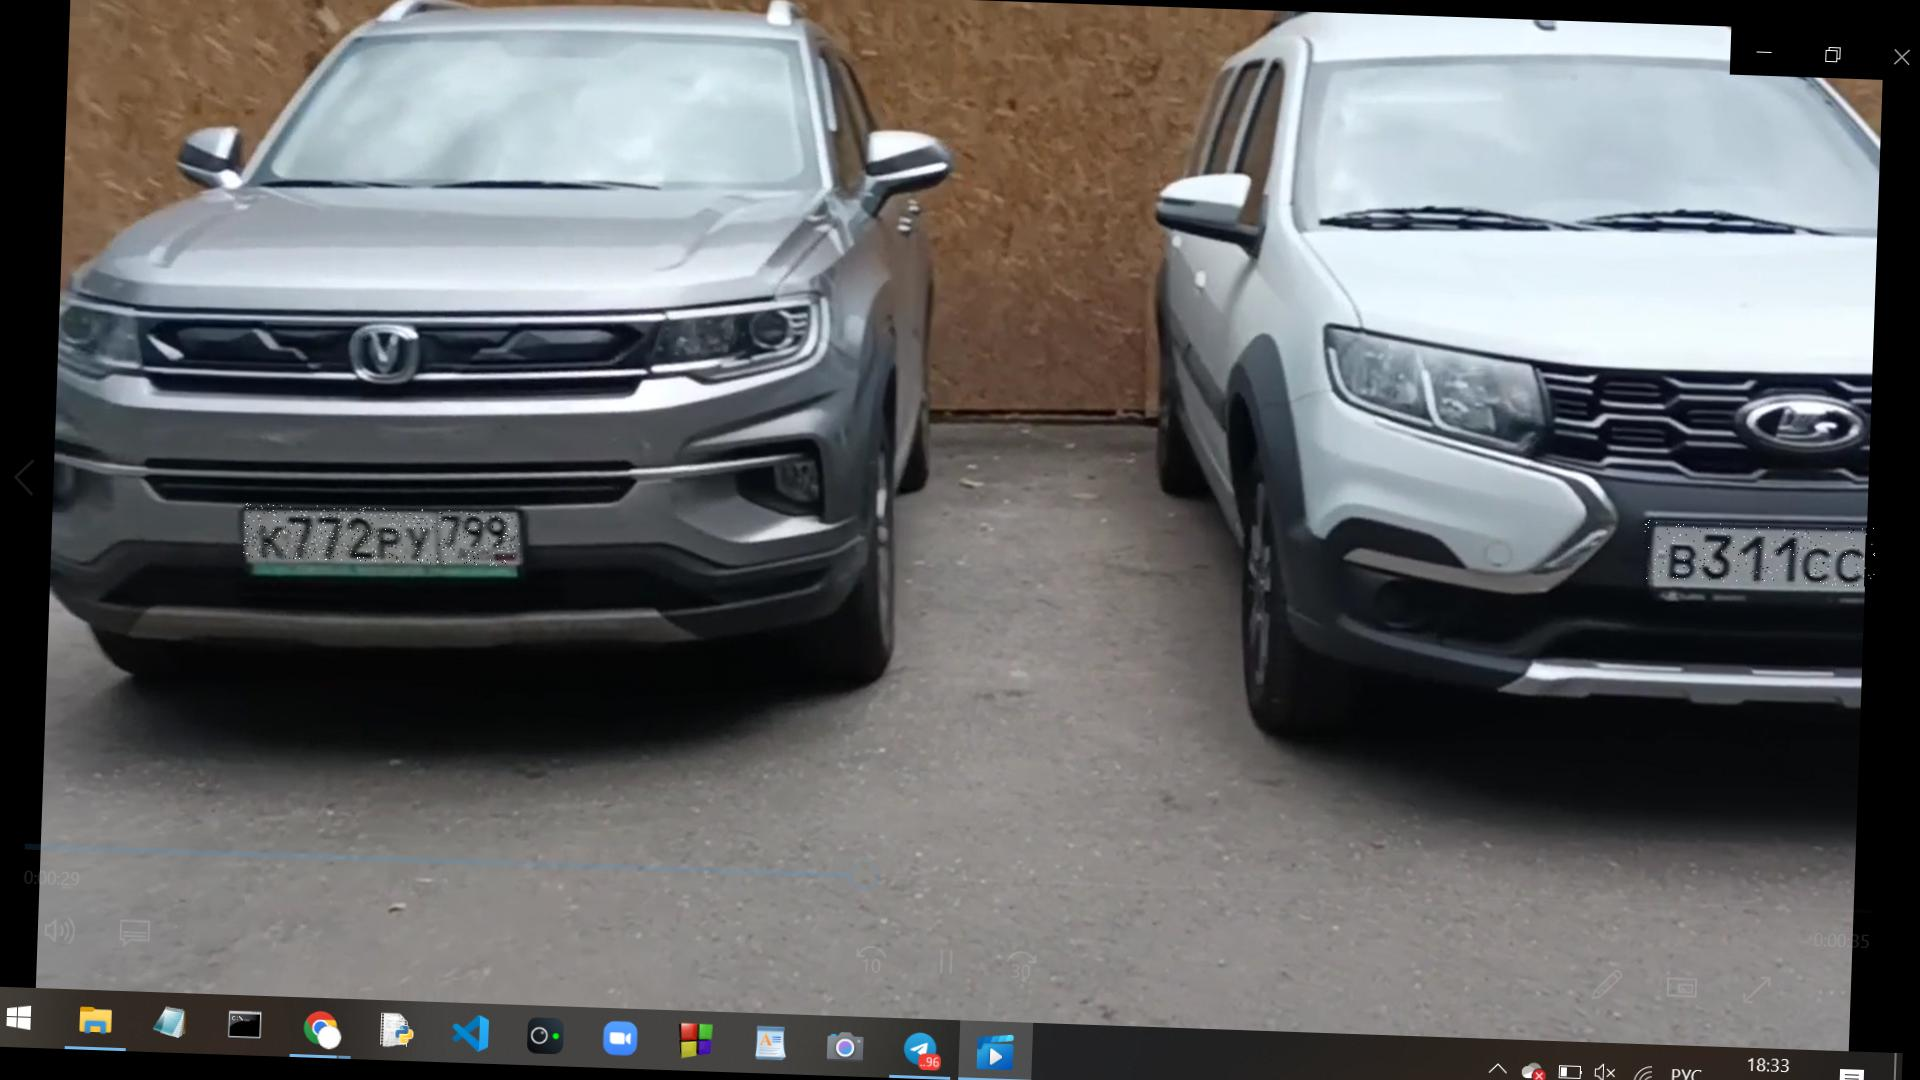plate: (245, 504, 525, 568), (1645, 522, 1878, 589)
